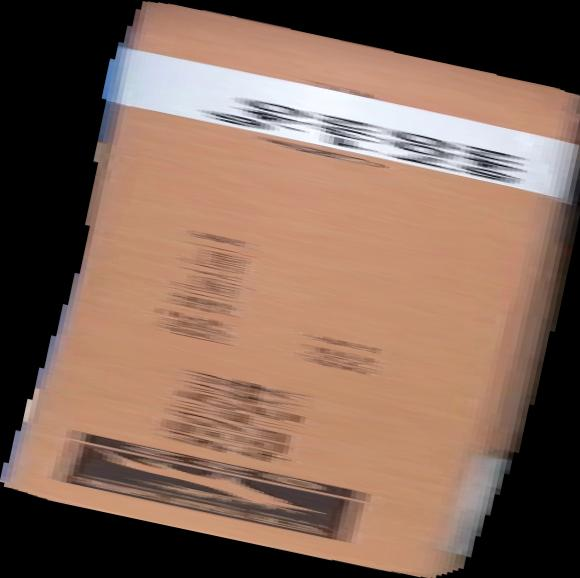reverse: (1, 1, 580, 578)
